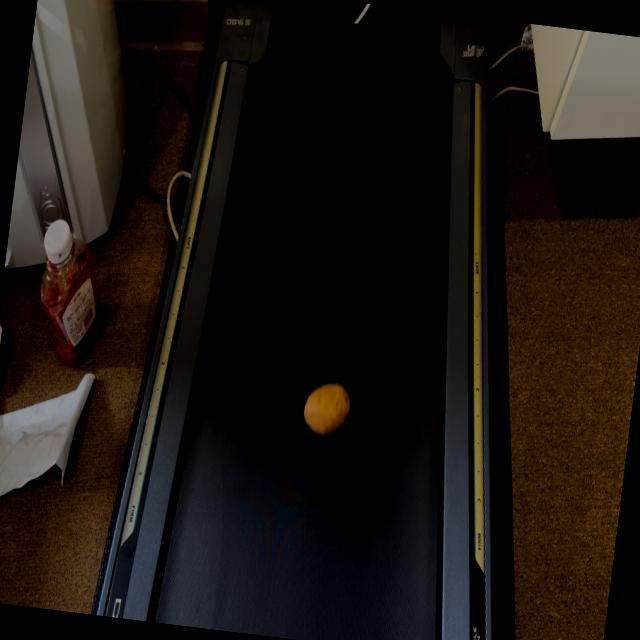Trash: (299, 378, 355, 440)
